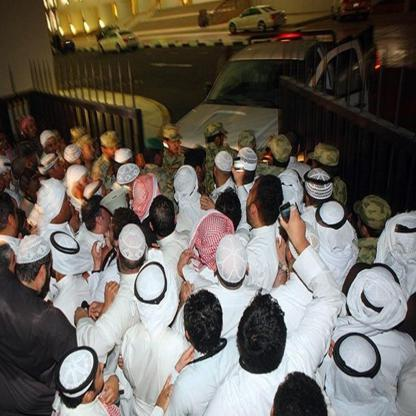face: (95, 361, 108, 398), (247, 181, 258, 221), (9, 207, 20, 236), (71, 204, 81, 231), (103, 205, 113, 229), (53, 160, 65, 180), (61, 196, 72, 217), (196, 161, 207, 181), (357, 216, 367, 238), (85, 144, 96, 161), (110, 220, 117, 245), (217, 134, 226, 152), (41, 264, 48, 287), (46, 141, 57, 155), (169, 139, 180, 153), (23, 220, 31, 238), (29, 179, 40, 192), (81, 177, 89, 194), (109, 145, 119, 158), (154, 185, 162, 201), (9, 257, 16, 275), (3, 173, 12, 187), (28, 124, 37, 138), (312, 162, 320, 177), (106, 231, 113, 248), (26, 163, 34, 177), (54, 134, 62, 148), (158, 151, 165, 167), (138, 155, 146, 169), (72, 137, 81, 149), (30, 154, 38, 167), (107, 167, 114, 181), (62, 144, 68, 156), (77, 156, 83, 168), (1, 177, 6, 191), (2, 135, 8, 146), (95, 144, 101, 155), (100, 187, 106, 197), (1, 147, 6, 157), (9, 147, 14, 153)
